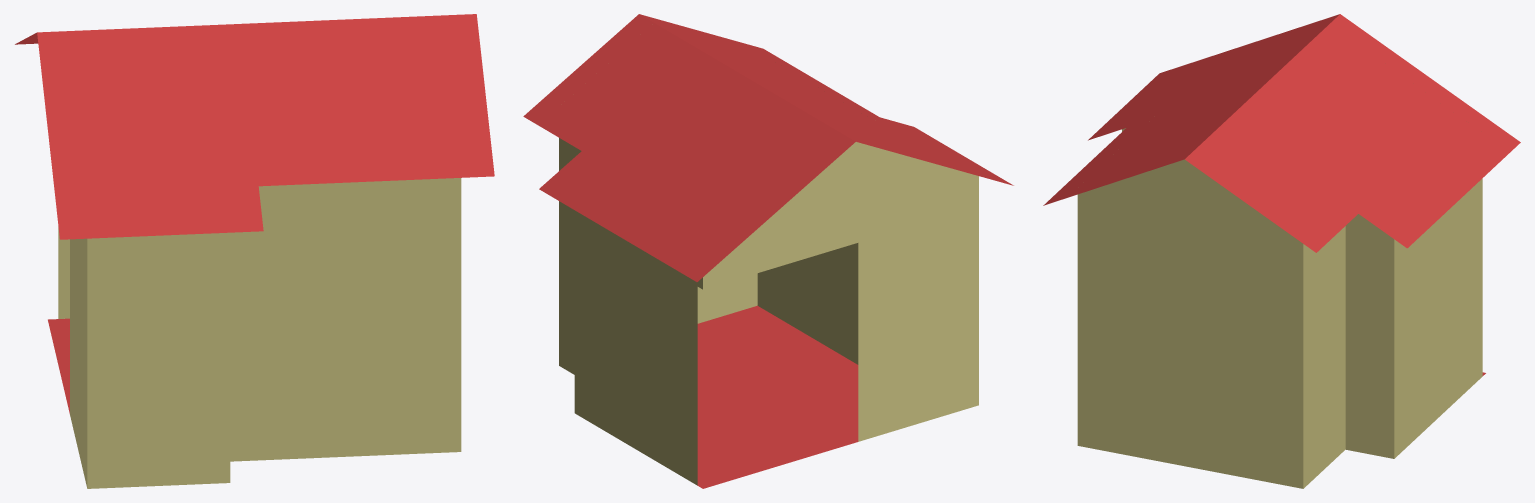
3 views of the same model, side by side, from view 1: azimuth 30°, elevation 25°; view 2: azimuth 150°, elevation 25°; view 3: azimuth 270°, elevation 25° (orthographic). The views are drawn at different scales.
Visible parts, largest first — view 1: group_5, group_3, group_4, group_6; view 2: group_5, group_3, group_6, group_4; view 3: group_5, group_3, group_4.
Part boxes in pixels (box(x1,y1,x2,y2)): group_5: box(58, 178, 461, 488); group_3: box(15, 14, 493, 239); group_4: box(37, 14, 494, 186); group_6: box(48, 318, 69, 413); group_5: box(559, 138, 978, 485); group_3: box(539, 14, 1013, 254); group_6: box(697, 305, 858, 488); group_4: box(523, 14, 903, 281); group_5: box(1077, 128, 1482, 488); group_3: box(1078, 14, 1486, 251); group_4: box(1043, 14, 1520, 252).
Size of the model in its own units: 13.95 by 13.73 by 10.11.
